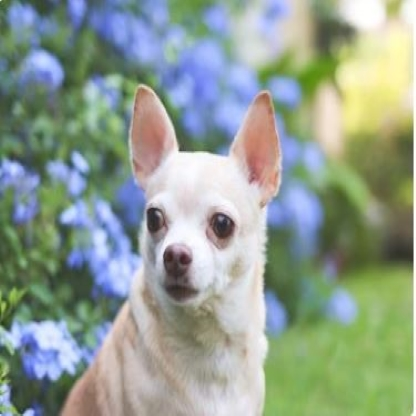chihuahua: (53, 83, 286, 416)
